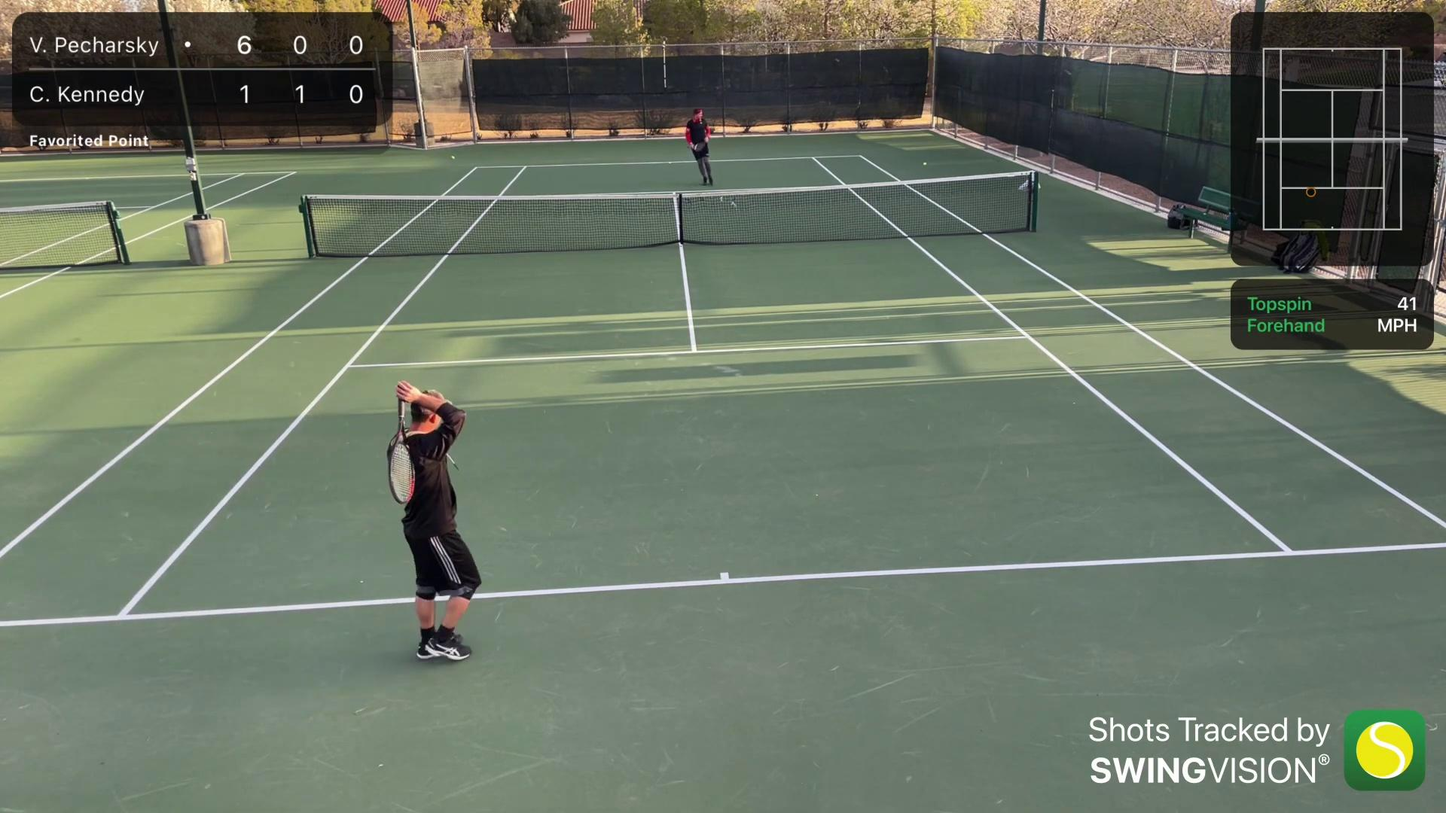ball: (922, 161, 929, 168), (450, 155, 457, 160)
